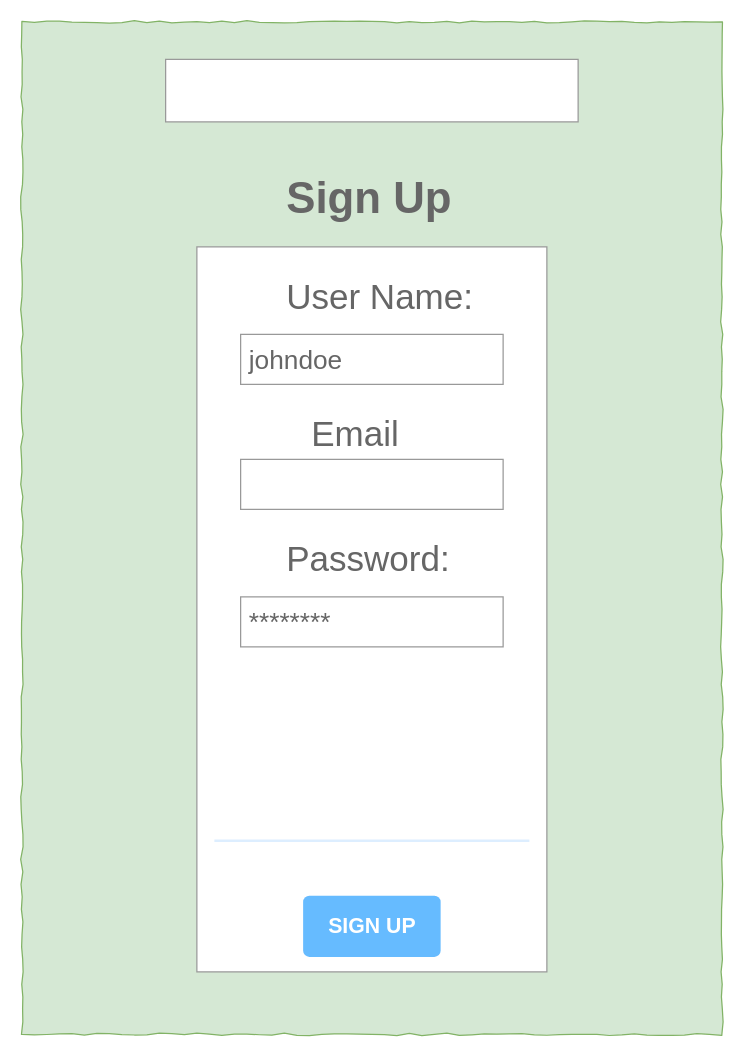
The diagram is 744 pixels wide and 1056 high, and some of its shapes have lost their labels. The shapes that lost their labels are listed below. From the top down, each one's box as (x1, y1, x2, y2) in pixels, then its label:
(164, 58, 578, 122): Over The Hill
(239, 458, 503, 509): johndoe@gmail.com
